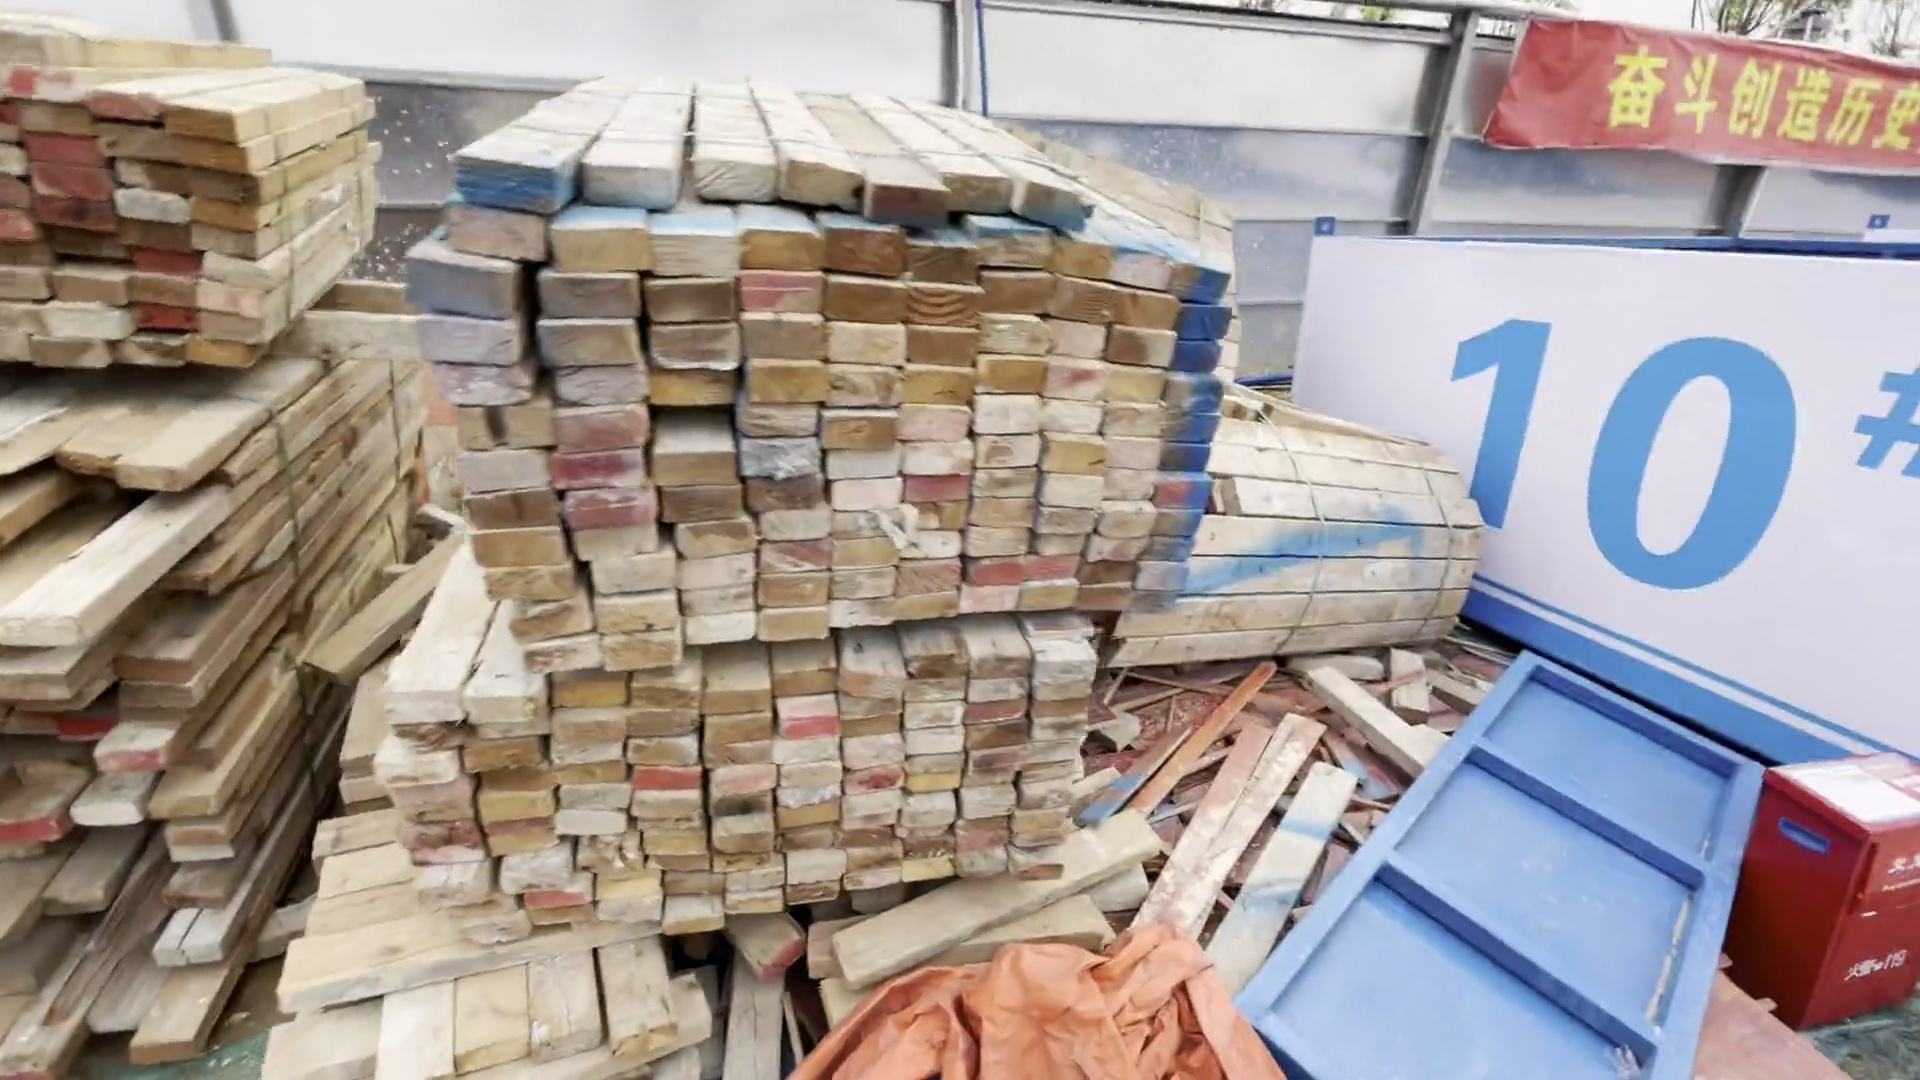slogan: (1469, 15, 1920, 196)
wood: (390, 113, 1211, 886), (5, 24, 371, 1033)
